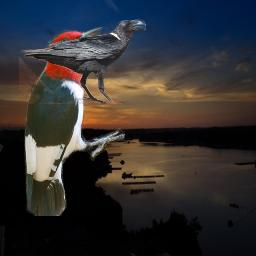Crow: (19, 18, 146, 104)
Woodpecker: (23, 27, 125, 216)
